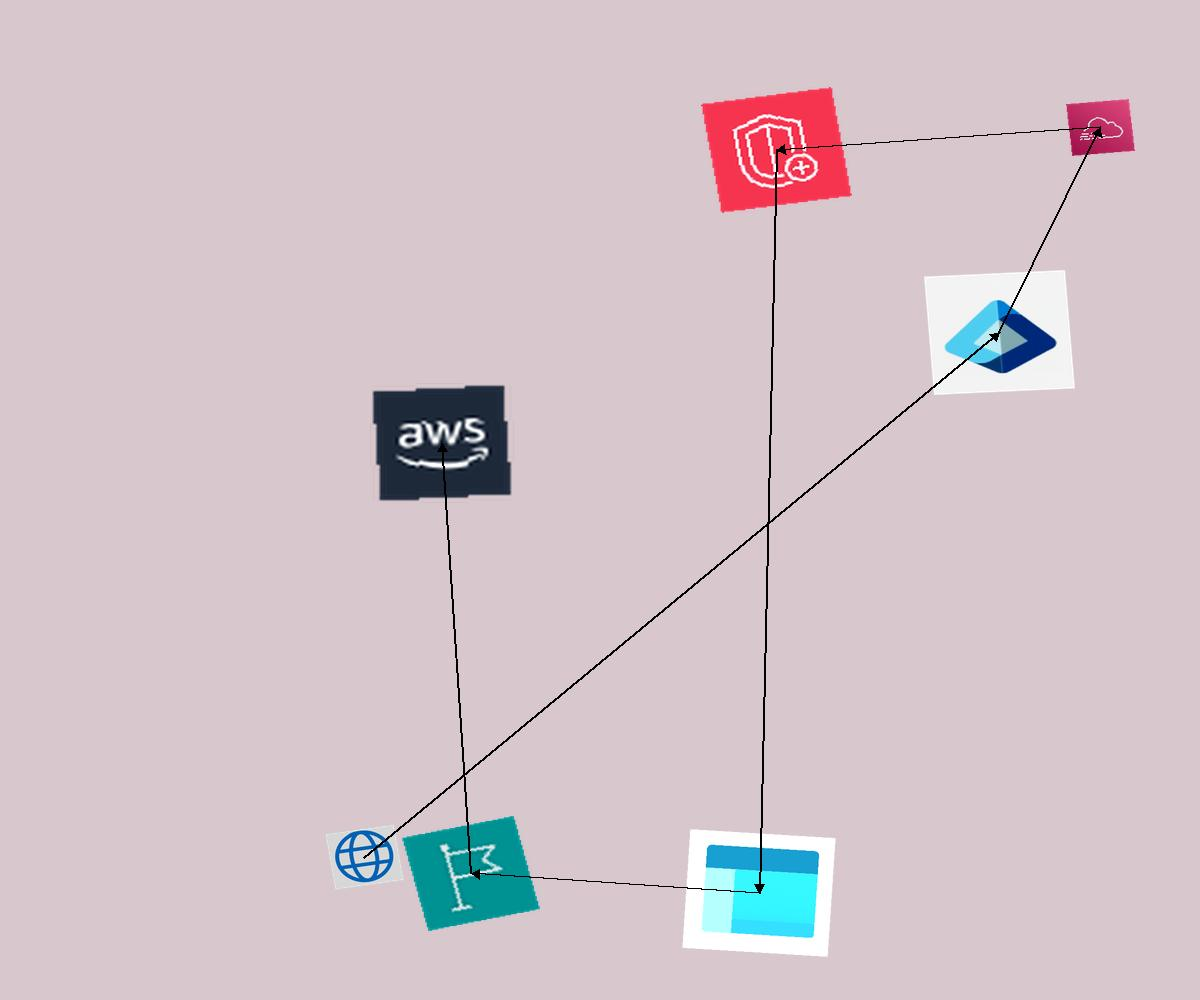AWS-Cloud-logo: (370, 383, 514, 503)
AWS-CloudTrail: (1066, 99, 1135, 156)
AWS-Region: (401, 815, 541, 932)
AWS-Shield: (701, 87, 852, 213)
Azure_http: (325, 824, 404, 890)
Azure_management-portal: (682, 829, 836, 957)
Azure_microsoft_entra: (924, 270, 1075, 395)
